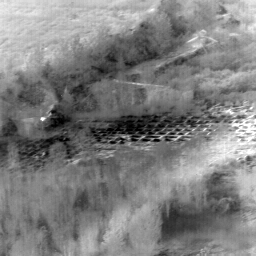aircraft: (42, 118, 44, 120)
